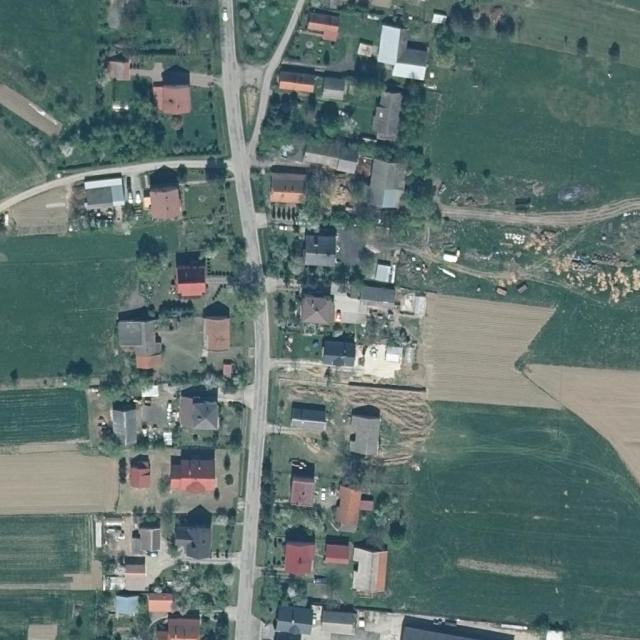agricultural_land: (385, 395, 640, 637), (426, 33, 640, 205), (0, 232, 138, 378), (523, 313, 640, 483), (419, 292, 567, 408), (522, 290, 640, 372), (114, 0, 220, 73), (0, 515, 92, 584)
building: (364, 159, 410, 213), (169, 447, 216, 495), (117, 321, 163, 370), (147, 164, 183, 221), (351, 538, 388, 593), (153, 65, 191, 115), (180, 385, 219, 431), (370, 89, 403, 142), (349, 404, 380, 457), (83, 172, 125, 211), (270, 165, 306, 205), (305, 8, 343, 43), (377, 24, 408, 66), (305, 226, 336, 267), (176, 524, 211, 559), (392, 48, 429, 81), (335, 486, 361, 532), (322, 333, 357, 367), (277, 69, 318, 96), (112, 400, 136, 446), (174, 264, 206, 298), (283, 542, 315, 576), (360, 285, 395, 315), (277, 605, 313, 634), (301, 295, 334, 324), (202, 317, 230, 351), (322, 610, 356, 634), (291, 401, 327, 423), (131, 528, 161, 554), (107, 53, 132, 82), (129, 455, 150, 488), (290, 480, 315, 507), (302, 151, 339, 169), (322, 76, 346, 102), (148, 592, 174, 615), (375, 259, 397, 285), (355, 38, 379, 60), (324, 544, 350, 564), (115, 595, 139, 616), (125, 572, 147, 591), (124, 556, 145, 574), (337, 159, 357, 175), (385, 346, 403, 363), (360, 494, 374, 511)
dryland: (338, 354, 450, 475), (270, 375, 365, 428), (268, 356, 352, 391)
greenland: (28, 72, 215, 173), (415, 0, 526, 75), (259, 92, 361, 162), (183, 176, 251, 279), (63, 354, 158, 401), (218, 245, 276, 314), (168, 560, 239, 616), (252, 564, 309, 626), (401, 173, 442, 246), (286, 27, 348, 72), (298, 163, 338, 231), (299, 260, 367, 299), (320, 201, 405, 232), (260, 229, 304, 283), (397, 78, 429, 148), (365, 490, 406, 543), (177, 157, 234, 194), (359, 138, 428, 168), (136, 243, 168, 303), (167, 362, 229, 389), (344, 74, 399, 103), (276, 330, 324, 360), (259, 455, 276, 539), (217, 402, 245, 449), (269, 290, 300, 331), (272, 507, 324, 529), (96, 419, 121, 456), (531, 612, 572, 634), (231, 359, 253, 389)
metalled_road: (234, 298, 282, 640), (213, 0, 262, 266)
unmetalled_road: (237, 0, 306, 162), (85, 155, 207, 179), (449, 261, 523, 288), (393, 244, 443, 266)
